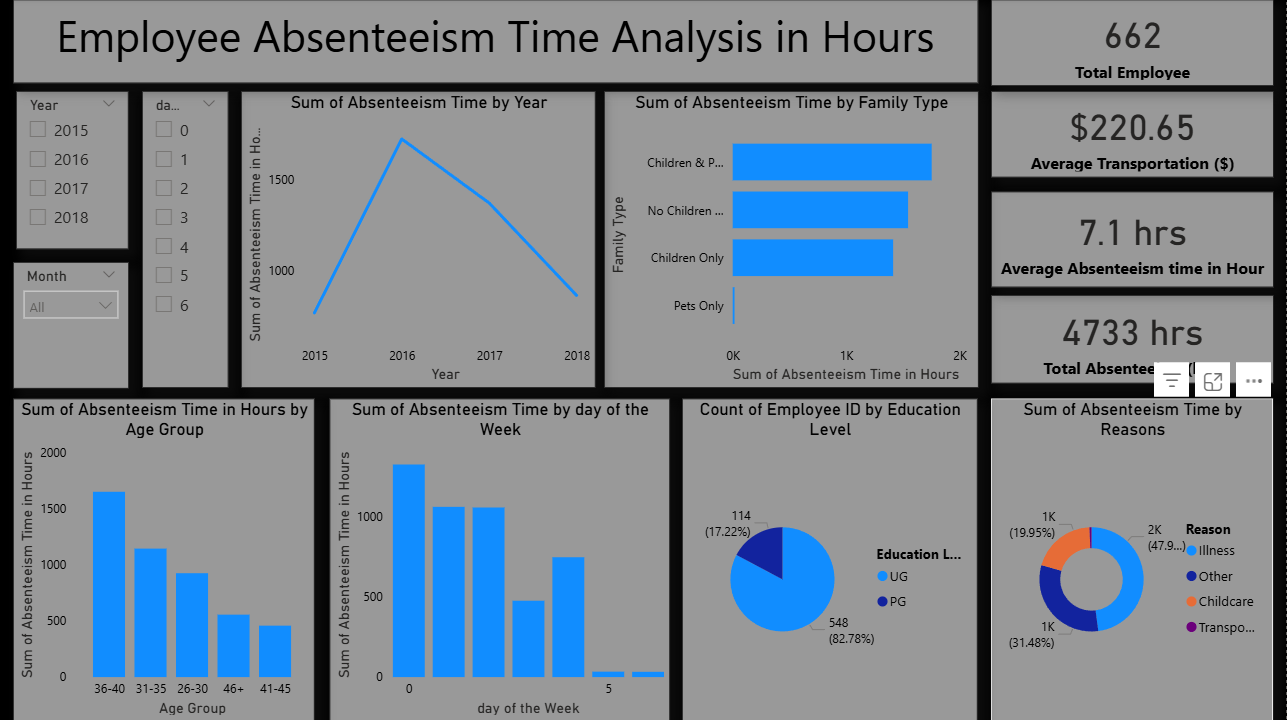

The page's visual inventory and layout, read from the dashboard file:
{"tool":"powerbi","page":{"name":"Page 1","canvas":[1280,720],"ordinal":0},"visuals":[{"type":"card","fields":{"Values":["Final Cleaned Absenteesim data.Total Absenteeism (hrs)"]},"box":[987.3,295.3,281.6,87.8],"z":0},{"type":"card","fields":{"Values":["Final Cleaned Absenteesim data.Average Absenteeism time"]},"box":[987.3,192.3,281.6,95.4],"z":1000},{"type":"clusteredBarChart","title":"Sum of Absenteeism Time  by Family Type","fields":{"Category":["Final Cleaned Absenteesim data.Family Type"],"Y":["Sum(Final Cleaned Absenteesim data.Absenteeism Time in Hours)"]},"box":[602.7,92.4,372.5,295.3],"z":2000},{"type":"card","fields":{"Values":["Final Cleaned Absenteesim data.Average Transportation Expense"]},"box":[987.3,92.4,281.6,86.3],"z":3000},{"type":"lineChart","title":"Sum of Absenteeism Time by Year","fields":{"Y":["Sum(Final Cleaned Absenteesim data.Absenteeism Time in Hours)"],"Category":["Final Cleaned Absenteesim data.Date.Variation.Date Hierarchy.Year"]},"box":[242.3,92.4,352.8,295.3],"z":4000},{"type":"slicer","fields":{"Values":["Final Cleaned Absenteesim data.Date.Variation.Date Hierarchy.Year"]},"box":[18.2,92.4,112.1,157.5],"z":5000},{"type":"donutChart","title":"Sum of Absenteeism Time by Reasons","fields":{"Y":["Sum(Final Cleaned Absenteesim data.Absenteeism Time in Hours)"],"Category":["Final Cleaned Absenteesim data.Reason"]},"box":[987.3,398.1,280.9,321.1],"z":6000},{"type":"columnChart","title":"Sum of Absenteeism Time by day of the Week","fields":{"Category":["Final Cleaned Absenteesim data.day of the Week"],"Y":["Sum(Final Cleaned Absenteesim data.Absenteeism Time in Hours)"]},"box":[329.1,398.1,338.7,321.1],"z":7000},{"type":"slicer","fields":{"Values":["Final Cleaned Absenteesim data.Date.Variation.Date Hierarchy.Month"]},"box":[15.1,262,115.1,125.7],"z":8000},{"type":"slicer","fields":{"Values":["Final Cleaned Absenteesim data.day of the Week"]},"box":[143.8,92.4,86.3,295.3],"z":9000},{"type":"pieChart","fields":{"Category":["Final Cleaned Absenteesim data.Education Level"],"Y":["CountNonNull(Final Cleaned Absenteesim data.Employee ID)"]},"box":[680.7,398.1,293.8,321.1],"z":10000},{"type":"textbox","box":[15.1,1.5,960,83.3],"z":11000},{"type":"columnChart","fields":{"Category":["Final Cleaned Absenteesim data.Age Group"],"Y":["Sum(Final Cleaned Absenteesim data.Absenteeism Time in Hours)"]},"box":[14.4,398.1,300.2,321.1],"z":12000},{"type":"card","fields":{"Values":["Final Cleaned Absenteesim data.Total Employee"]},"box":[987.3,1.5,281.6,86.3],"z":13000}]}

Visuals, with their boxes in screenshot pixels (x1, y1, x2, y2), scaled from the page's 1280x720 canvas onto the 1287x720 screenshot:
card - Final Cleaned Absenteesim data.Total Absenteeism (hrs): <box>993,295,1276,383</box>
card - Final Cleaned Absenteesim data.Average Absenteeism time: <box>993,192,1276,288</box>
"Sum of Absenteeism Time  by Family Type" clusteredBarChart: <box>606,92,981,388</box>
card - Final Cleaned Absenteesim data.Average Transportation Expense: <box>993,92,1276,179</box>
"Sum of Absenteeism Time by Year" lineChart: <box>244,92,598,388</box>
slicer - Final Cleaned Absenteesim data.Date.Variation.Date Hierarchy.Year: <box>18,92,131,250</box>
"Sum of Absenteeism Time by Reasons" donutChart: <box>993,398,1275,719</box>
"Sum of Absenteeism Time by day of the Week" columnChart: <box>331,398,671,719</box>
slicer - Final Cleaned Absenteesim data.Date.Variation.Date Hierarchy.Month: <box>15,262,131,388</box>
slicer - Final Cleaned Absenteesim data.day of the Week: <box>145,92,231,388</box>
pieChart - Final Cleaned Absenteesim data.Education Level x CountNonNull(Final Cleaned Absenteesim data.Employee ID): <box>684,398,980,719</box>
textbox: <box>15,2,980,85</box>
columnChart - Final Cleaned Absenteesim data.Age Group x Sum(Final Cleaned Absenteesim data.Absenteeism Time in Hours): <box>14,398,316,719</box>
card - Final Cleaned Absenteesim data.Total Employee: <box>993,2,1276,88</box>
